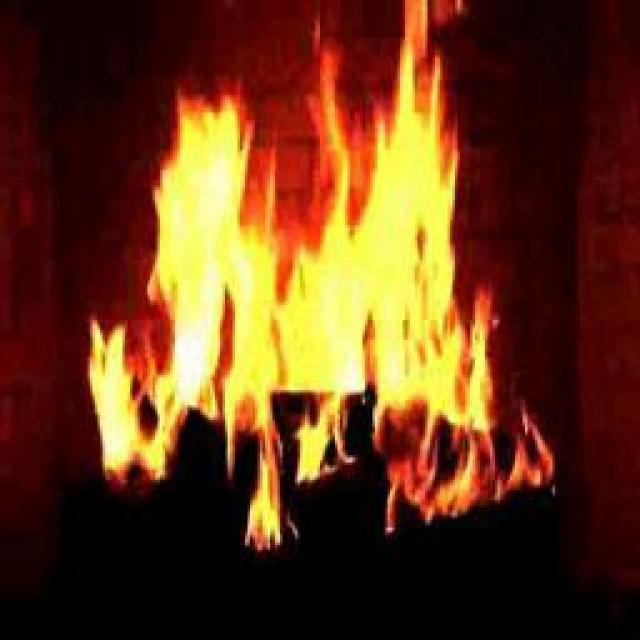Fire: (120, 70, 472, 480)
